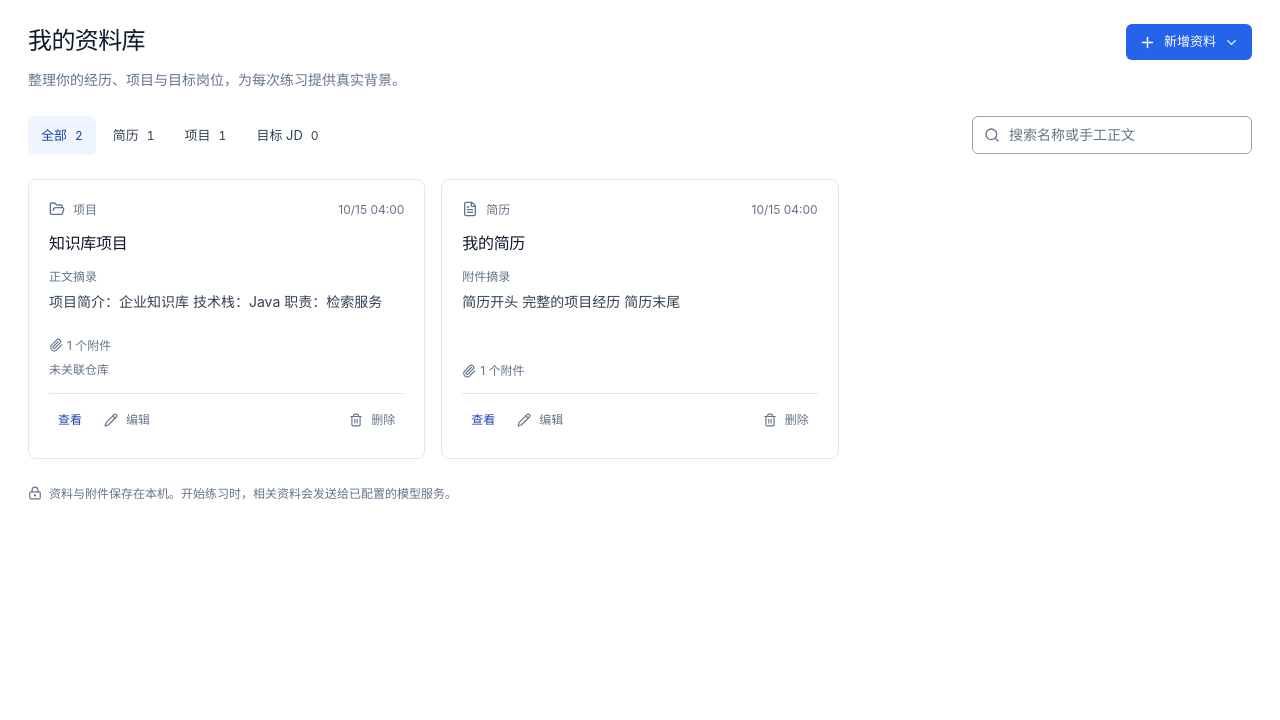
Scenario: 资料库页面（仅替换外部 HTTP） › 显示上传简历的附件全文及截断提示，并传递资料 ID 到配置页
Click the button "我的简历" at (494, 243), box [462,231,818,255]
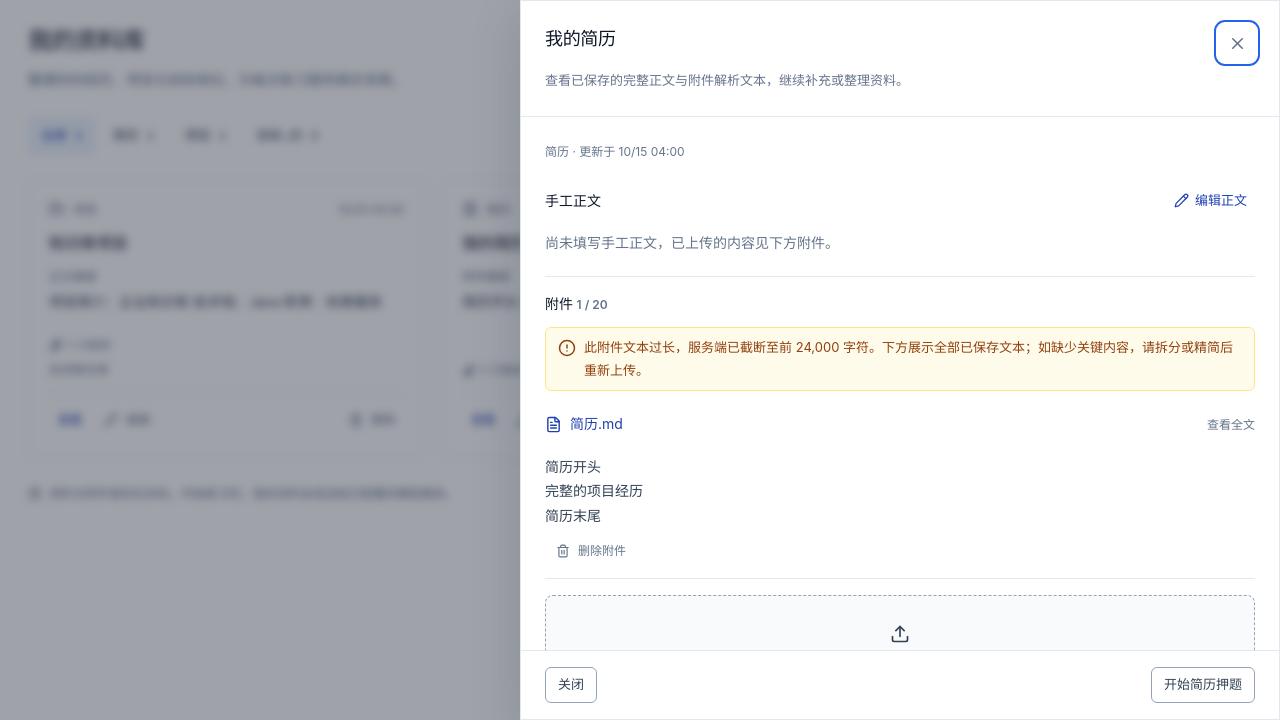
Now the dialog shows "截断", box [520,0,1279,719]
